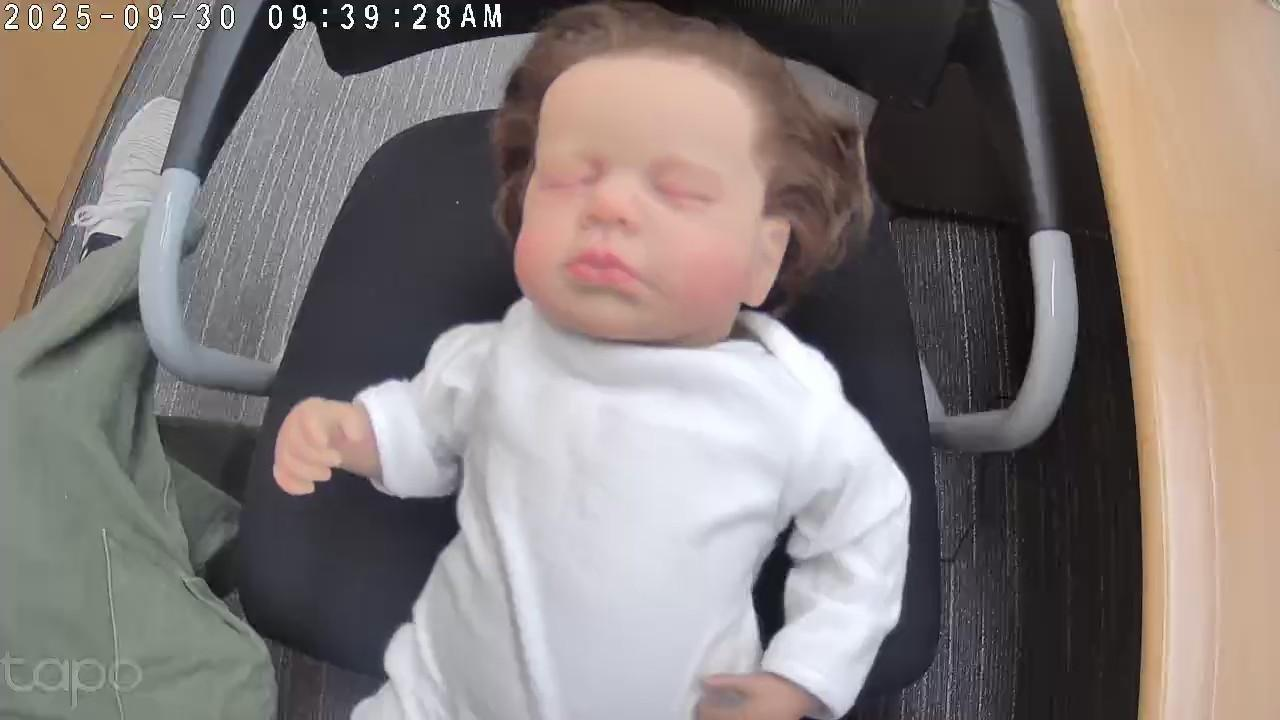hand: (274, 392, 372, 496)
